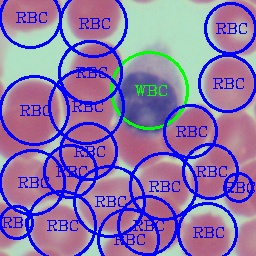RBC: (72, 170, 144, 238), (55, 68, 117, 136), (54, 113, 120, 176), (0, 72, 64, 136), (25, 198, 94, 255), (28, 146, 92, 206), (64, 36, 126, 97), (128, 192, 184, 255), (133, 156, 194, 212), (156, 102, 212, 162), (106, 116, 166, 172), (202, 52, 254, 116), (202, 108, 254, 172), (0, 154, 55, 212), (59, 0, 124, 47), (207, 0, 255, 62), (0, 107, 54, 161), (178, 208, 237, 255), (187, 148, 234, 204), (0, 0, 64, 39), (94, 221, 161, 255)
WBC: (109, 44, 192, 139)
